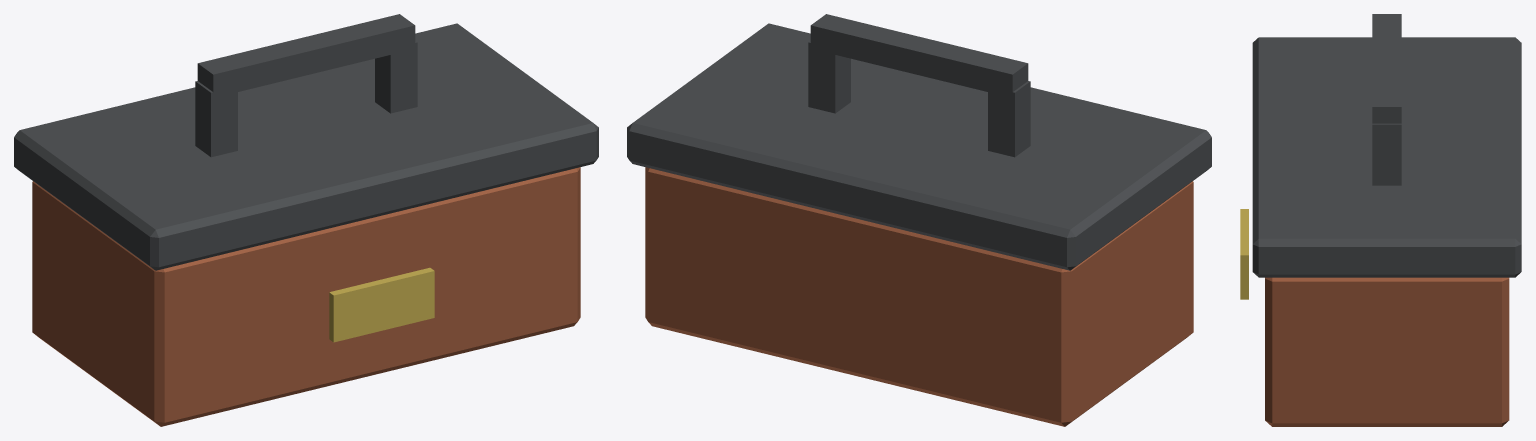
File: toolbox.glb
3 views of the same model, side by side, from view 1: azimuth 30°, elevation 25°; view 2: azimuth 150°, elevation 25°; view 3: azimuth 270°, elevation 25° (orthographic). The views are drawn at different scales.
Visible parts, largest first — view 1: toolbox; view 2: toolbox; view 3: toolbox.
Part boxes in pixels (bbox=[...]): toolbox: bbox=[14, 14, 598, 426]; toolbox: bbox=[627, 14, 1211, 426]; toolbox: bbox=[1240, 14, 1521, 426].
Size of the model in its own units: 0.4 by 0.245 by 0.23.
